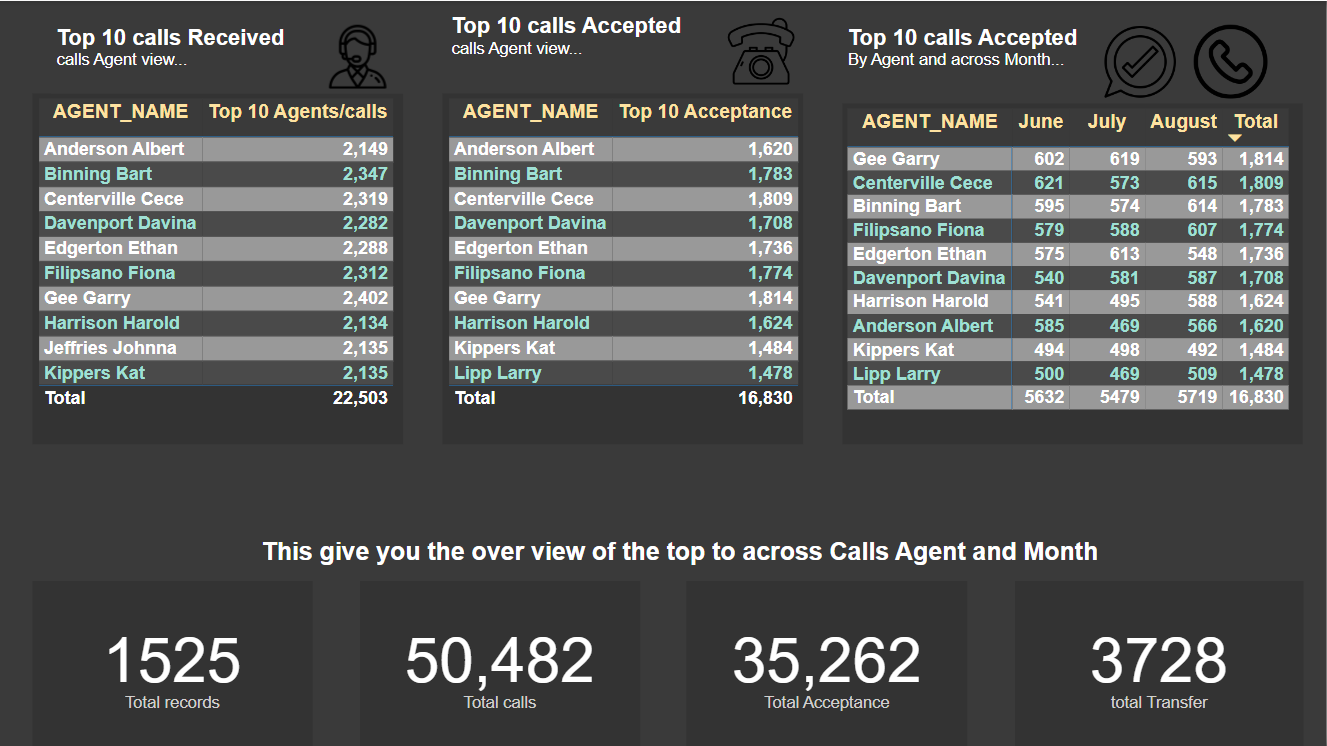

Layout of this report page (visuals, bound fields, positions):
{"tool":"powerbi","page":{"name":"Top 10 View","canvas":[1280,720],"ordinal":1},"visuals":[{"type":"tableEx","fields":{"Values":["Agent.AGENT_NAME","All Measures.Total calls"]},"box":[31.5,89.1,357.8,338.6],"z":0},{"type":"tableEx","fields":{"Values":["Agent.AGENT_NAME","All Measures.Total Acceptance"]},"box":[426.4,89.1,348.2,338.6],"z":1000},{"type":"pivotTable","fields":{"Rows":["Agent.AGENT_NAME"],"Values":["All Measures.Month July call","All Measures.Month Aug call","All Measures.Month Aug call1","All Measures.Total Acceptance"]},"box":[813,98.7,444.2,329.1],"z":2000},{"type":"card","fields":{"Values":["All Measures.Total records"]},"box":[31.5,559.4,270.1,160.4],"z":3000},{"type":"card","fields":{"Values":["All Measures.Total calls"]},"box":[346.9,559.4,270.1,160.4],"z":4000},{"type":"card","fields":{"Values":["All Measures.Total Acceptance"]},"box":[662.2,559.4,271.5,160.4],"z":5000},{"type":"card","fields":{"Values":["All Measures.total Transfer"]},"box":[978.9,559.4,278.3,160.4],"z":6000},{"type":"textbox","box":[49.4,17.8,340,71.3],"z":7000},{"type":"image","box":[301.6,17.8,87.7,71.3],"z":8000},{"type":"textbox","box":[430.5,6.9,340,71.3],"z":9000},{"type":"textbox","box":[813,17.8,431.9,71.3],"z":10000},{"type":"image","box":[695.1,6.9,79.5,82.3],"z":11000},{"type":"image","box":[1057.1,17.8,87.7,80.9],"z":12000},{"type":"image","box":[1144.8,17.8,85,80.9],"z":13000},{"type":"textbox","box":[31.5,512.8,1249,37],"z":14000}]}

Visuals, with their boxes in screenshot pixels (x1, y1, x2, y2), scaled from the page's 1280x720 canvas onto the 1327x746 screenshot:
tableEx - Agent.AGENT_NAME x All Measures.Total calls: box(33, 92, 404, 443)
tableEx - Agent.AGENT_NAME x All Measures.Total Acceptance: box(442, 92, 803, 443)
pivotTable - Agent.AGENT_NAME x All Measures.Month July call: box(843, 102, 1303, 443)
card - All Measures.Total records: box(33, 580, 313, 745)
card - All Measures.Total calls: box(360, 580, 640, 745)
card - All Measures.Total Acceptance: box(687, 580, 968, 745)
card - All Measures.total Transfer: box(1015, 580, 1303, 745)
textbox: box(51, 18, 404, 92)
image: box(313, 18, 404, 92)
textbox: box(446, 7, 799, 81)
textbox: box(843, 18, 1291, 92)
image: box(721, 7, 803, 92)
image: box(1096, 18, 1187, 102)
image: box(1187, 18, 1275, 102)
textbox: box(33, 531, 1326, 570)
